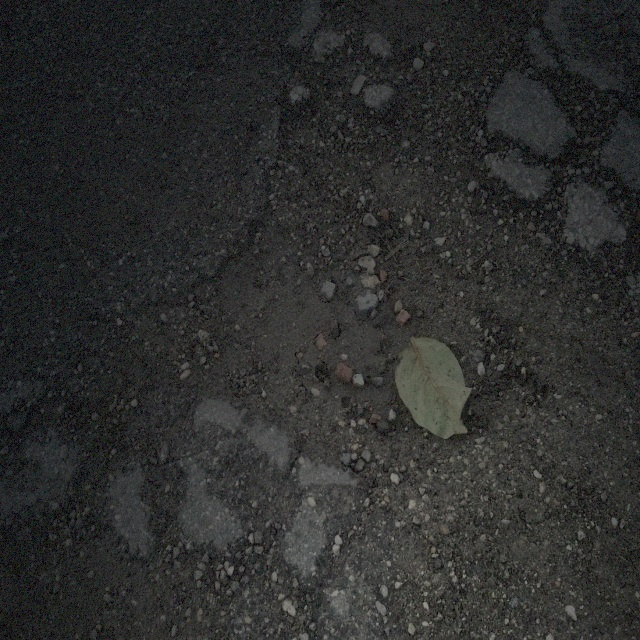pothole: (189, 98, 527, 470)
